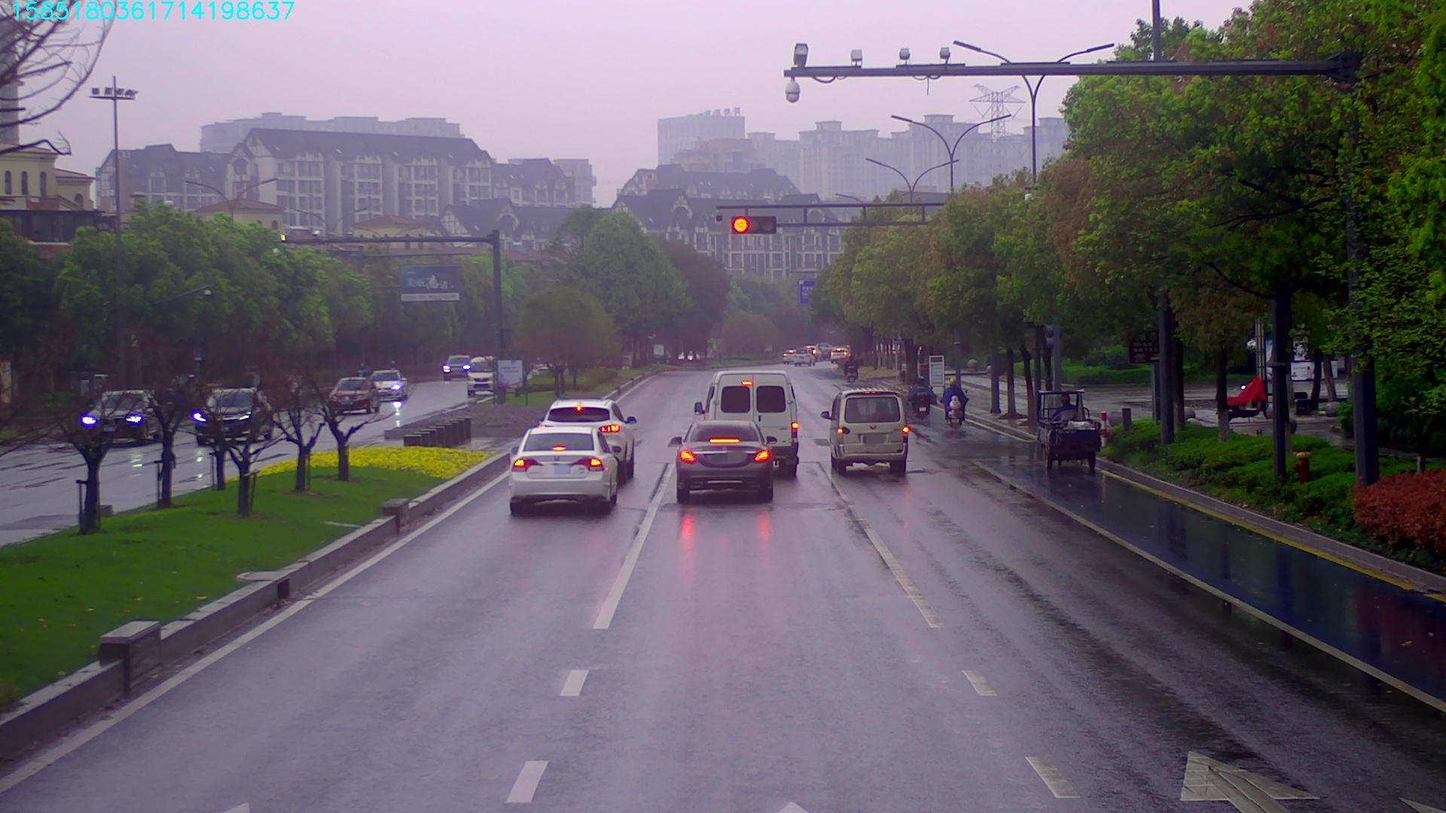red: (731, 215, 778, 236)
